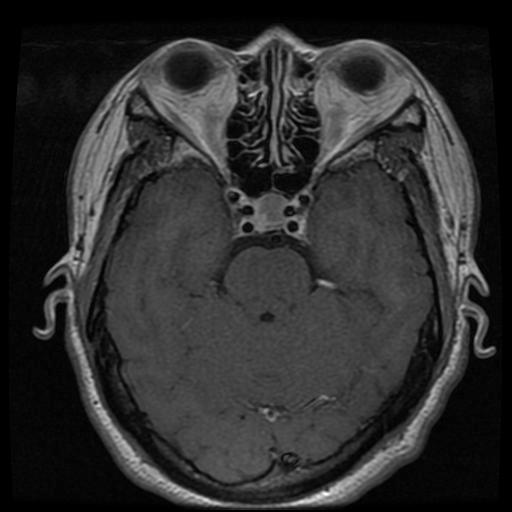Tumour-Pituitary: (223, 186, 318, 242)
